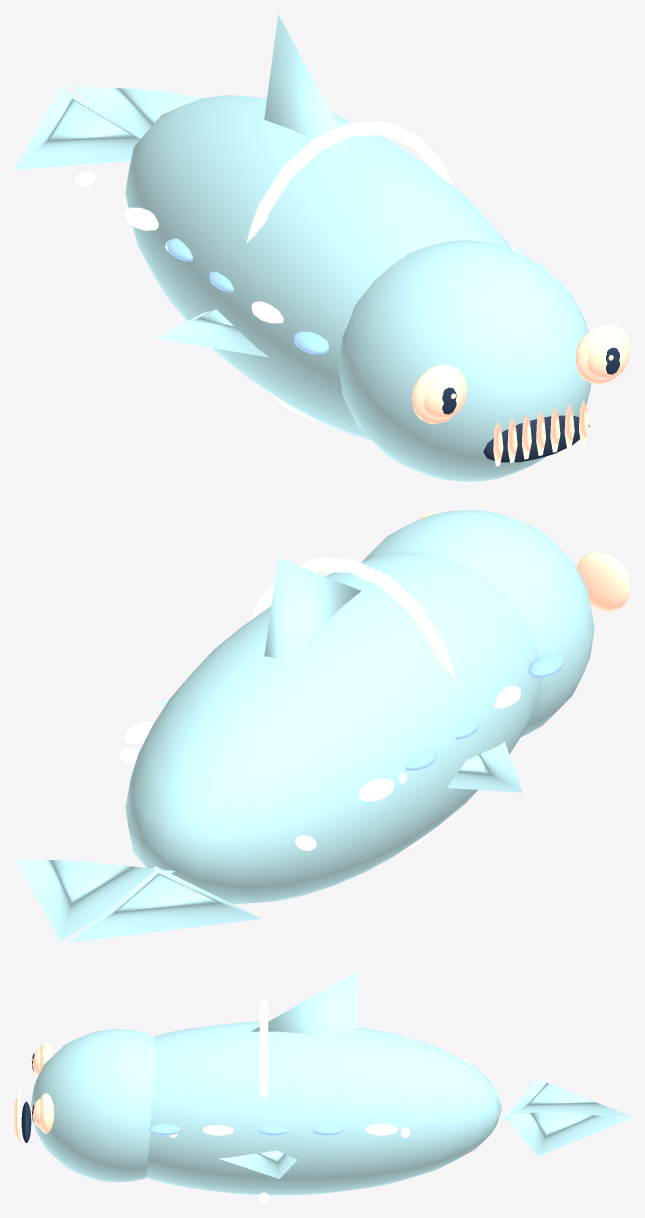
File: razor-current.glb
3 renders of one model, top to bottom at view 1: azimuth 30°, elevation 25°; view 2: azimuth 150°, elevation 25°; view 3: azimuth 270°, elevation 25°, orthographic. The views are drawn at different scales.
Visible parts, largest first — view 1: body, head, tail-lobe--1, dorsal-fin-blade, luminous-halo, tail-lobe-1, swim-fin--1-blade, mouth, eye-glow--1, eye-glow-1, weak-point-eye--1, weak-point-eye-1 (+1 smaller); view 2: body, head, tail-lobe--1, tail-lobe-1, dorsal-fin-blade, luminous-halo, eye-glow--1, swim-fin--1-blade, scale--1-4, scale--1-0; view 3: body, head, dorsal-fin-blade, tail-lobe-1, tail-lobe--1, swim-fin-1-blade, luminous-halo, eye-glow-1, mouth.
Part boxes in pixels (x1,y1,x2,y2): body: (125,95,512,440); head: (338,240,591,481); tail-lobe--1: (14,87,141,169); dorsal-fin-blade: (264,15,361,169); luminous-halo: (246,121,453,421); tail-lobe-1: (69,85,201,137); swim-fin--1-blade: (156,309,268,357); mouth: (483,415,589,462); eye-glow--1: (411,364,467,423); eye-glow-1: (575,324,630,383); weak-point-eye--1: (424,375,464,419); weak-point-eye-1: (587,335,627,379); body: (125,552,541,904); head: (362,510,594,736); tail-lobe--1: (69,866,261,942); tail-lobe-1: (14,858,174,940); dorsal-fin-blade: (264,557,360,662); luminous-halo: (250,557,455,852); eye-glow--1: (577,552,630,611); swim-fin--1-blade: (447,741,522,792); scale--1-4: (359,778,394,801); scale--1-0: (528,655,563,677); body: (146,1021,501,1195); head: (30,1029,154,1182); dorsal-fin-blade: (251,971,357,1040); tail-lobe-1: (502,1111,630,1156); tail-lobe--1: (502,1078,630,1120); swim-fin-1-blade: (219,1150,297,1178); luminous-halo: (259,1000,268,1203); eye-glow-1: (40,1093,54,1133); mouth: (21,1101,31,1142).
Bounding box in the file's own units: 1.93 × 1.78 × 4.38.
